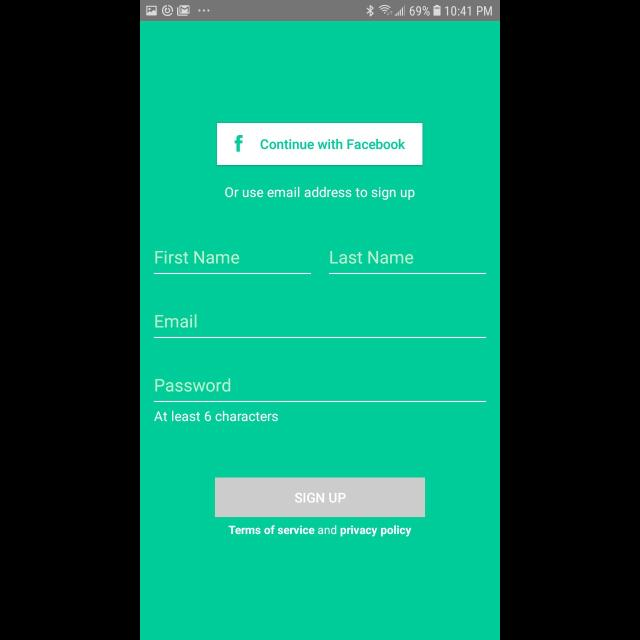input: (154, 378, 486, 402), (154, 314, 486, 338), (154, 251, 312, 275), (329, 250, 486, 274)
text: (225, 187, 415, 201), (228, 525, 412, 537), (154, 410, 278, 422), (156, 251, 240, 265), (331, 251, 414, 265), (156, 378, 230, 392), (155, 315, 197, 329)
textbutton: (217, 122, 423, 166), (215, 477, 425, 517)
uppertaskbar: (140, 1, 500, 22)
